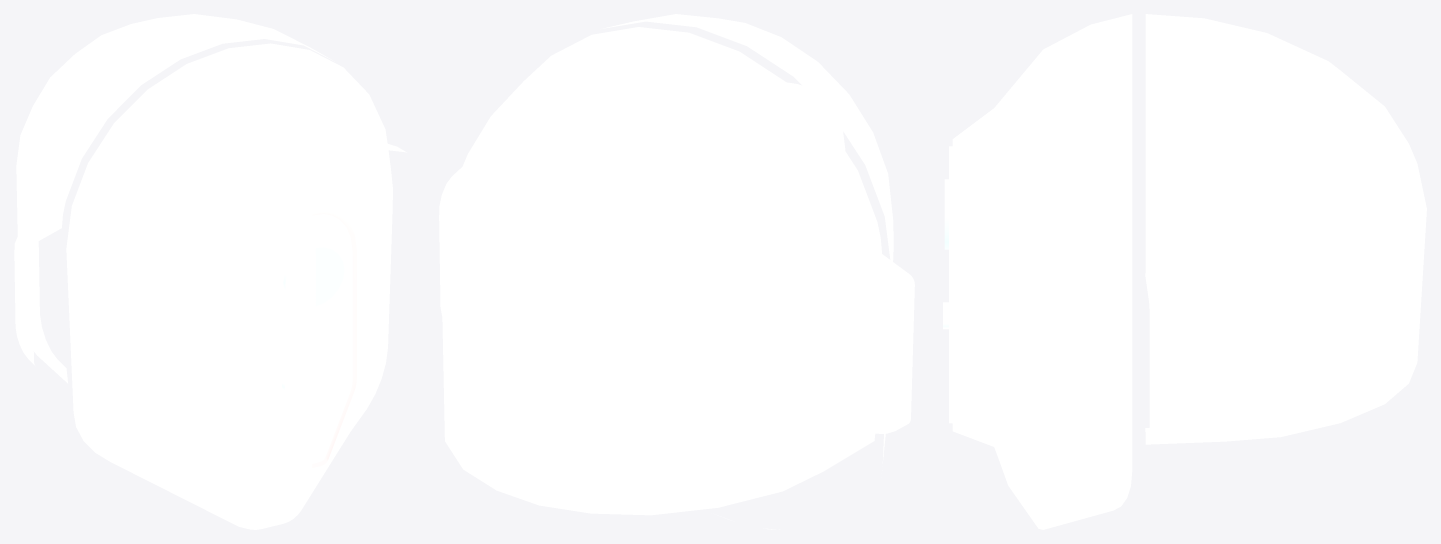
Rendered from Head_03.gltf.
3 views of the same model, side by side, from view 1: azimuth 30°, elevation 25°; view 2: azimuth 150°, elevation 25°; view 3: azimuth 270°, elevation 25° (orthographic). The views are drawn at different scales.
Parts seen in each view (by area): view 1: Head_v3; view 2: Head_v3; view 3: Head_v3.
Boxes of the visible parts, x1,y1,x2,y2 form: Head_v3: [14, 14, 406, 529]; Head_v3: [439, 14, 914, 529]; Head_v3: [943, 14, 1426, 529].
Bounding box in the file's own units: 20.97 × 23.56 × 21.27.
4 materials, 2 textured.
